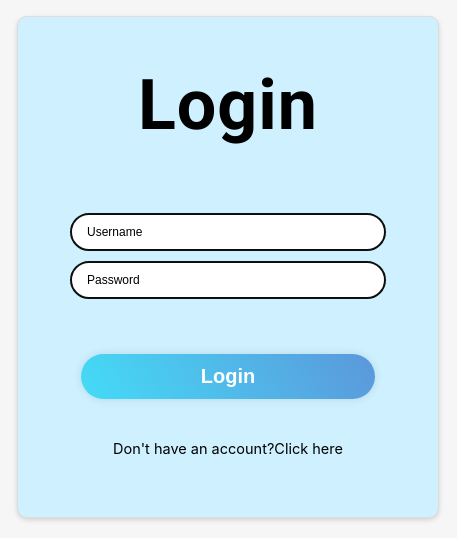
Test: LoginForm component › Click here should render Register form
Click the link "Click here" at [309, 449], box [274, 440, 343, 457]
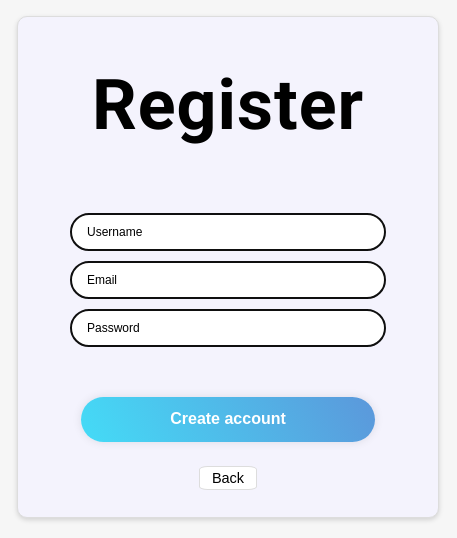
Check: the heading "Register" is shown, box [92, 64, 364, 146]
Check: the field with placeholder "Username" is shown, box [70, 213, 386, 251]
Check: the field with placeholder "Email" is shown, box [70, 261, 386, 299]
